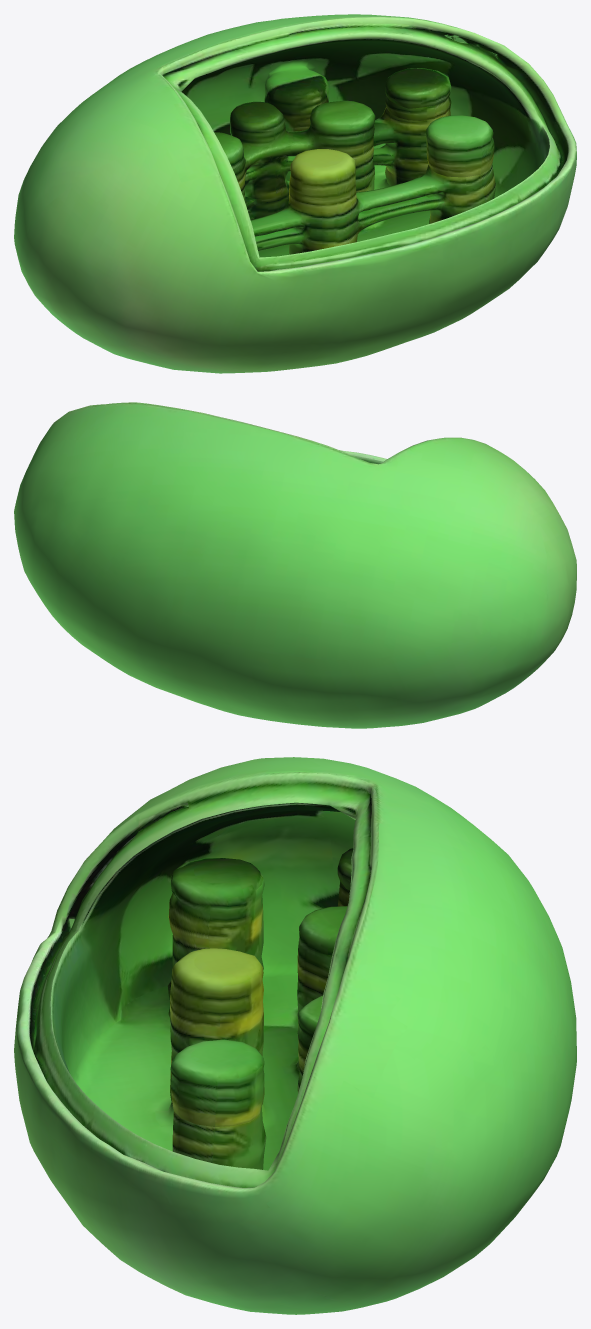
Rendered from chloroplast.glb.
3 views of the same model, one above another, from view 1: azimuth 30°, elevation 25°; view 2: azimuth 150°, elevation 25°; view 3: azimuth 270°, elevation 25° (orthographic). The views are drawn at different scales.
Size of the model in its own units: 1.91 by 1 by 1.28.
1 material, 1 textured.
